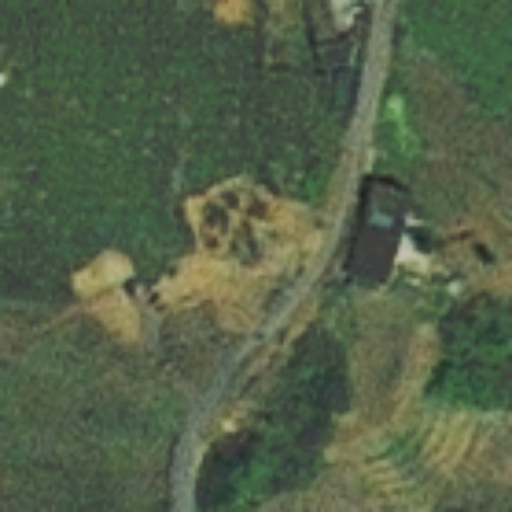landslide: (71, 180, 325, 346)
